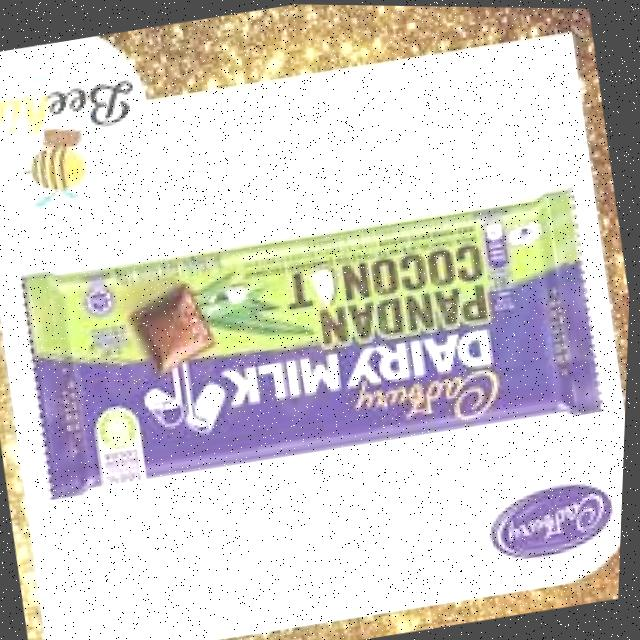cadbury: (21, 191, 603, 500), (488, 474, 620, 568)
